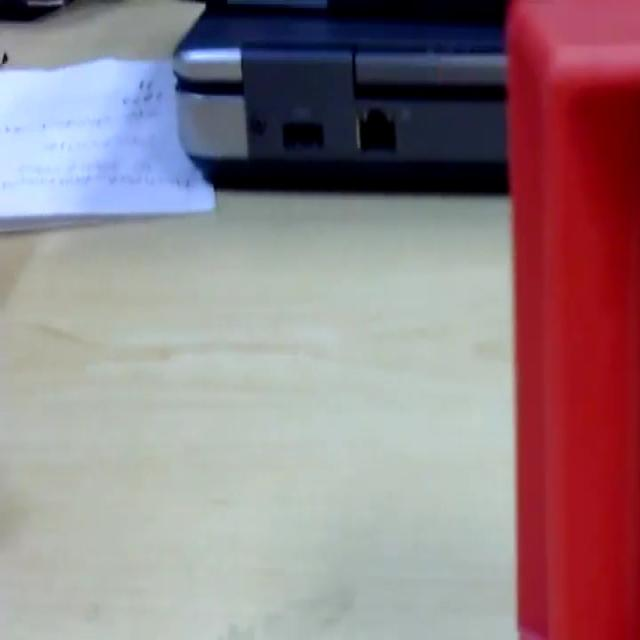red_block: (505, 1, 638, 636)
